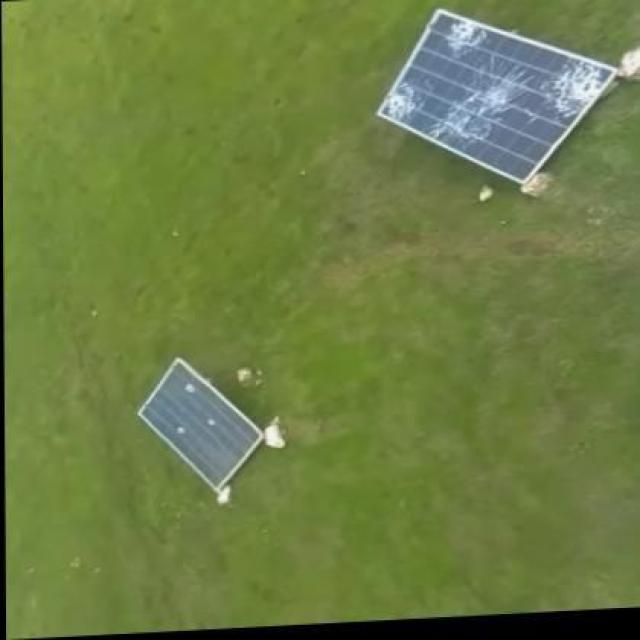cracked: (376, 8, 622, 186)
soiled: (134, 356, 276, 490)
